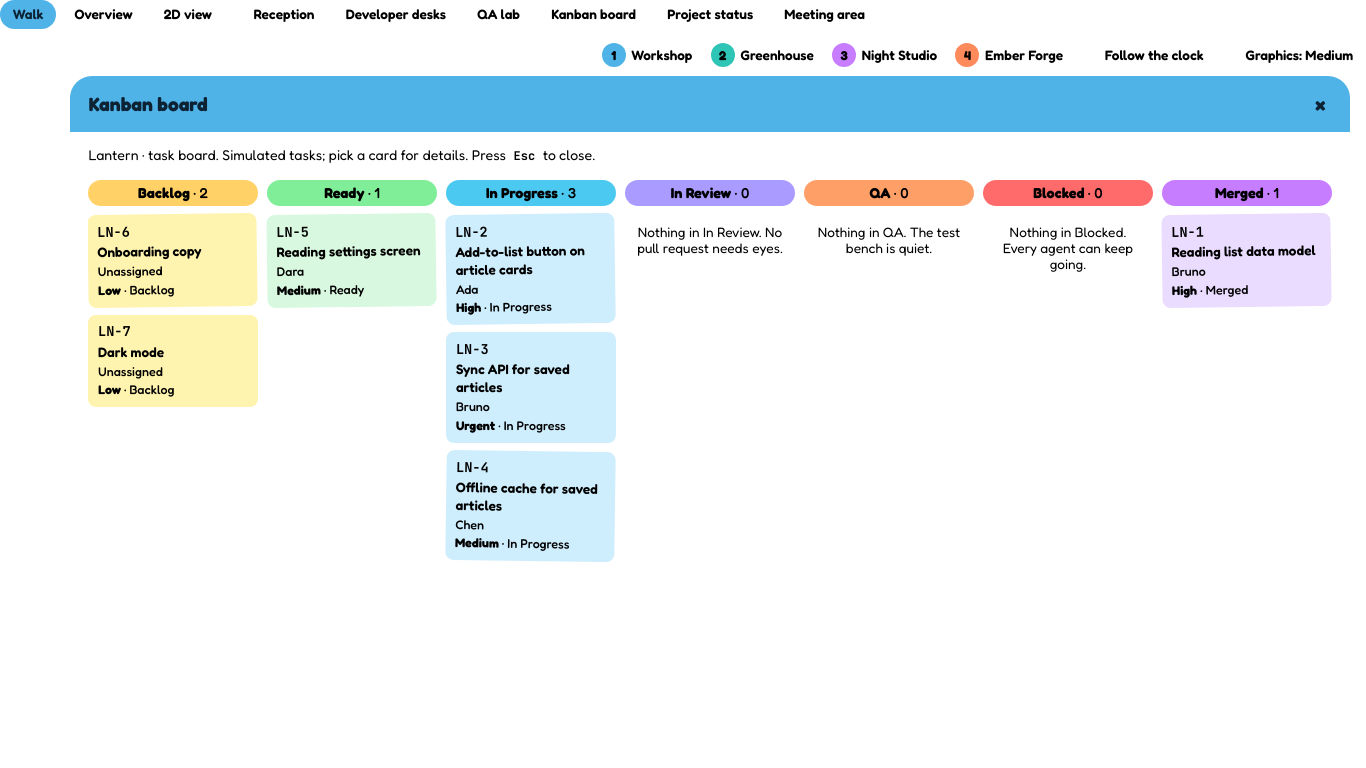
it: floors and the elevator › switches floors from the toolbar and closes a stale panel
The image size is (1366, 768).
Click the button with aria-label "Floor 3 · Night Studio".
click(888, 56)  # box left=829, top=40, right=947, bottom=71
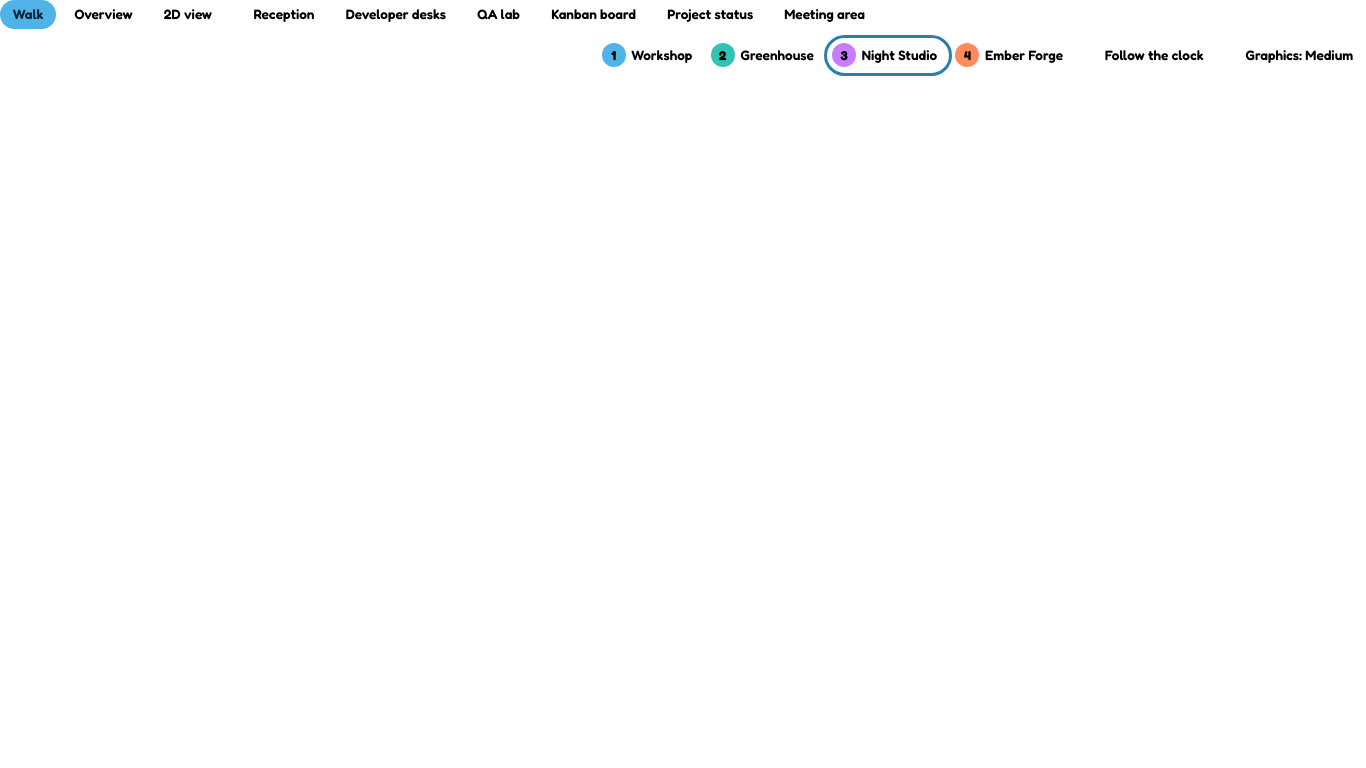
Now the dialog is gone
